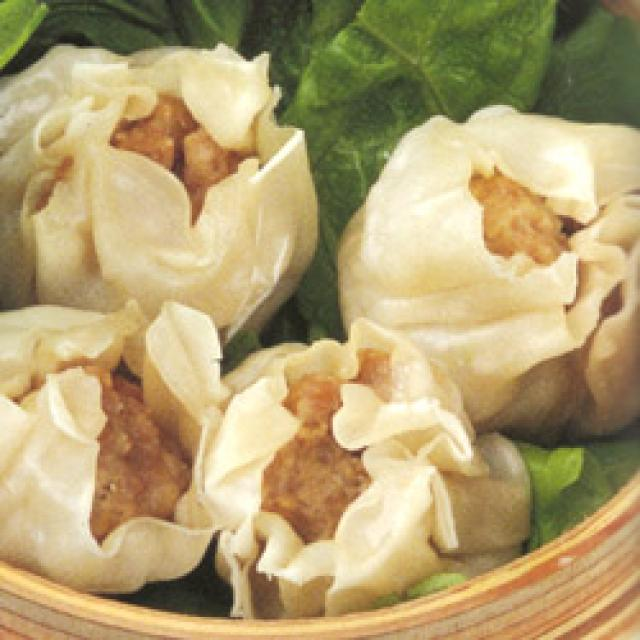带馅早点: (0, 38, 640, 622)
